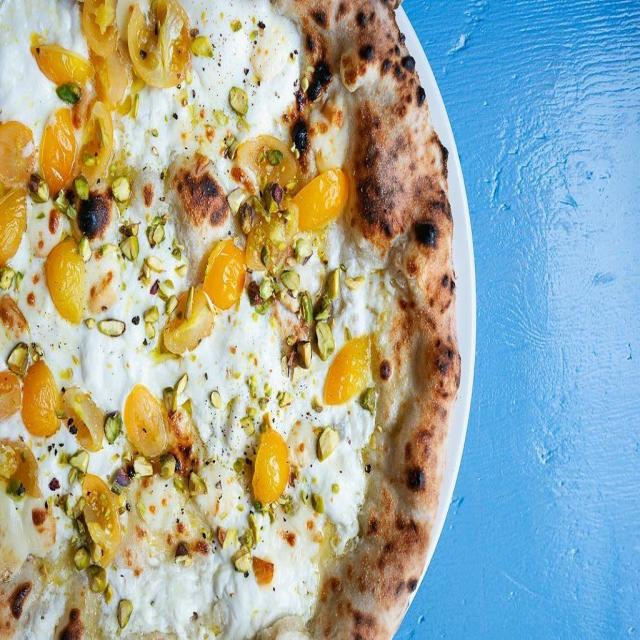pizza: (0, 0, 461, 639)
tomatoes: (64, 468, 126, 566), (128, 0, 197, 85), (28, 31, 94, 101), (288, 163, 351, 236), (46, 236, 94, 329), (160, 281, 215, 360), (320, 331, 374, 407), (234, 130, 300, 189), (241, 201, 297, 268), (39, 103, 77, 198), (60, 379, 110, 451), (125, 380, 168, 463), (250, 416, 288, 508), (76, 97, 110, 197), (22, 360, 61, 442), (0, 436, 45, 503), (205, 235, 246, 308), (81, 0, 128, 59), (2, 116, 36, 193), (93, 41, 131, 109), (0, 195, 28, 271), (0, 355, 22, 430)
